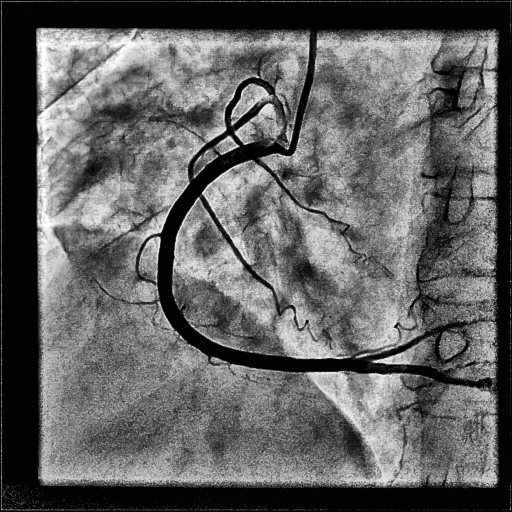pborca: (347, 321, 468, 363)
pda: (346, 363, 491, 388)
rca: (158, 142, 346, 372)
